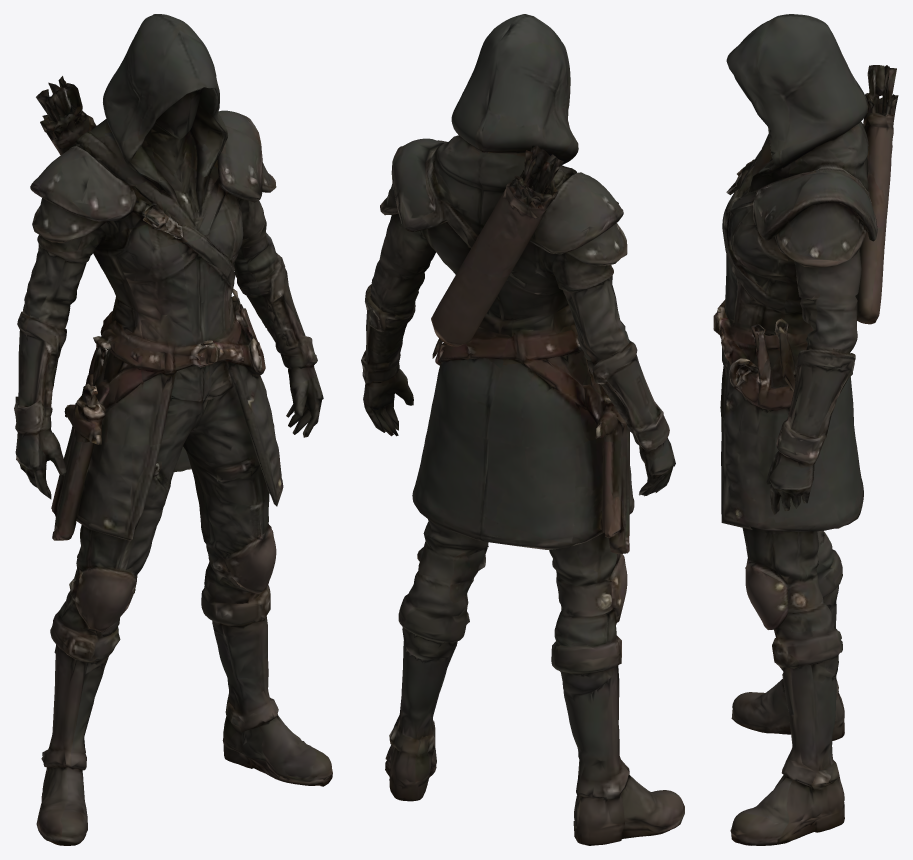
File: assassin.glb
The picture shows the model from 3 angles, left to right: view 1: azimuth 30°, elevation 25°; view 2: azimuth 150°, elevation 25°; view 3: azimuth 270°, elevation 25°; orthographic projection. The views are drawn at different scales.
Parts seen in each view (by area): view 1: tripo_node_5a77bb42_tripo_mat_5a77bb42_0; view 2: tripo_node_5a77bb42_tripo_mat_5a77bb42_0; view 3: tripo_node_5a77bb42_tripo_mat_5a77bb42_0.
Boxes of the visible parts, x1,y1,x2,y2 form: tripo_node_5a77bb42_tripo_mat_5a77bb42_0: [14, 14, 332, 845]; tripo_node_5a77bb42_tripo_mat_5a77bb42_0: [361, 14, 684, 845]; tripo_node_5a77bb42_tripo_mat_5a77bb42_0: [713, 14, 898, 845].
Bounding box in the file's own units: 0.3925 × 0.9795 × 0.2149.
1 material, 1 textured.
